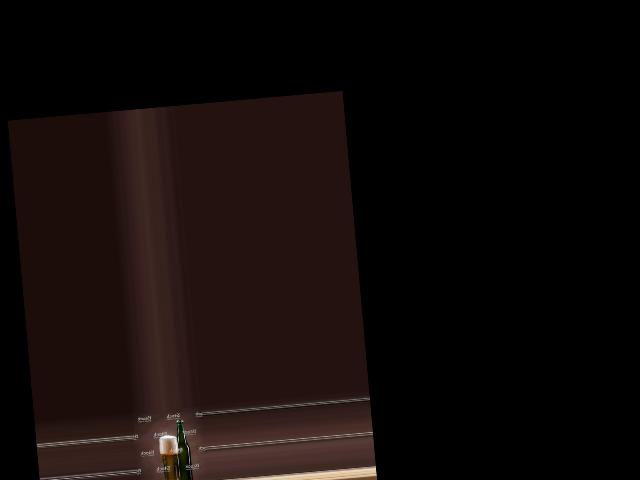beer: (172, 419, 193, 480)
